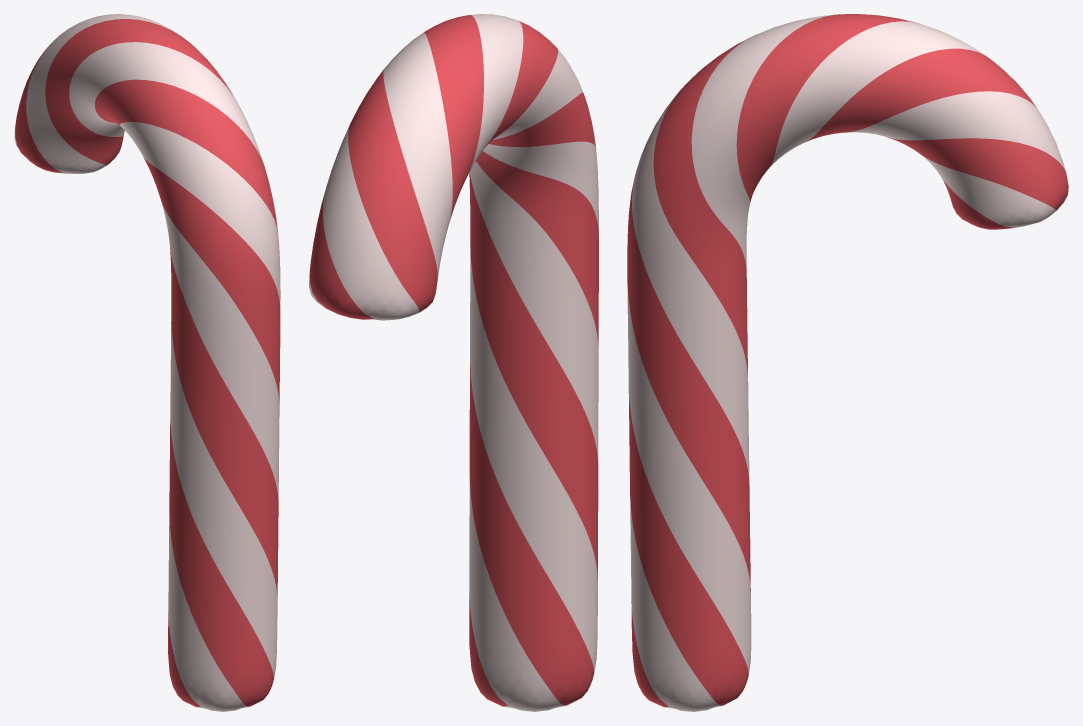
Rendered from CandyCane.fbx.
3 renders of one model, left to right at view 1: azimuth 30°, elevation 25°; view 2: azimuth 150°, elevation 25°; view 3: azimuth 270°, elevation 25°, orthographic. The views are drawn at different scales.
Visible parts, largest first — view 1: Cane; view 2: Cane; view 3: Cane.
Boxes of the visible parts, x1=… form: Cane: x1=14, y1=14, x2=280, y2=711; Cane: x1=309, y1=14, x2=598, y2=711; Cane: x1=627, y1=14, x2=1068, y2=711.
Bounding box in the file's own units: 0.529 × 3 × 1.77.
